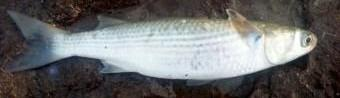fish: (3, 9, 317, 81)
